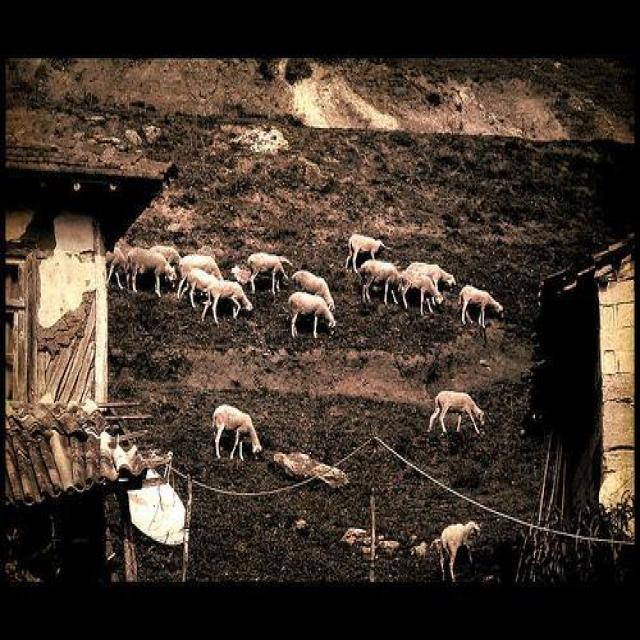Sheep: (146, 241, 482, 584), (210, 406, 264, 468)
